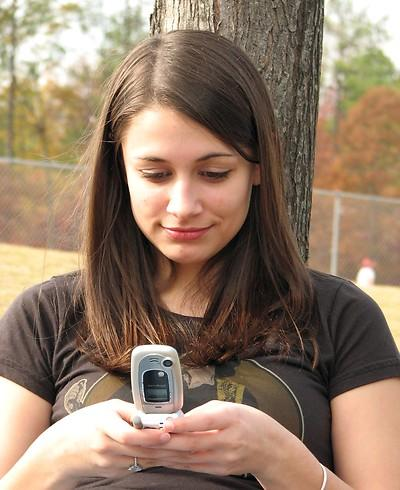person: (1, 33, 399, 490)
